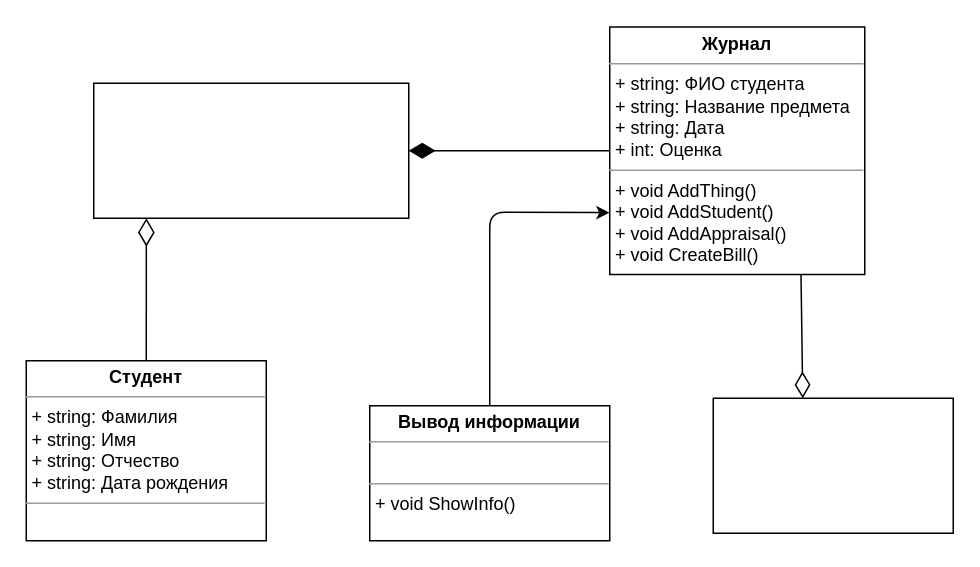
This 980x567 diagram has some shape labels left out. The centre of each missing label's shape, as x and y in pixels:
"Приложение + void SignIN(Surname, Group, Date)" belongs at [250,150].
"Сортировка + void SortName() + void SortDate()" belongs at [832,465].
